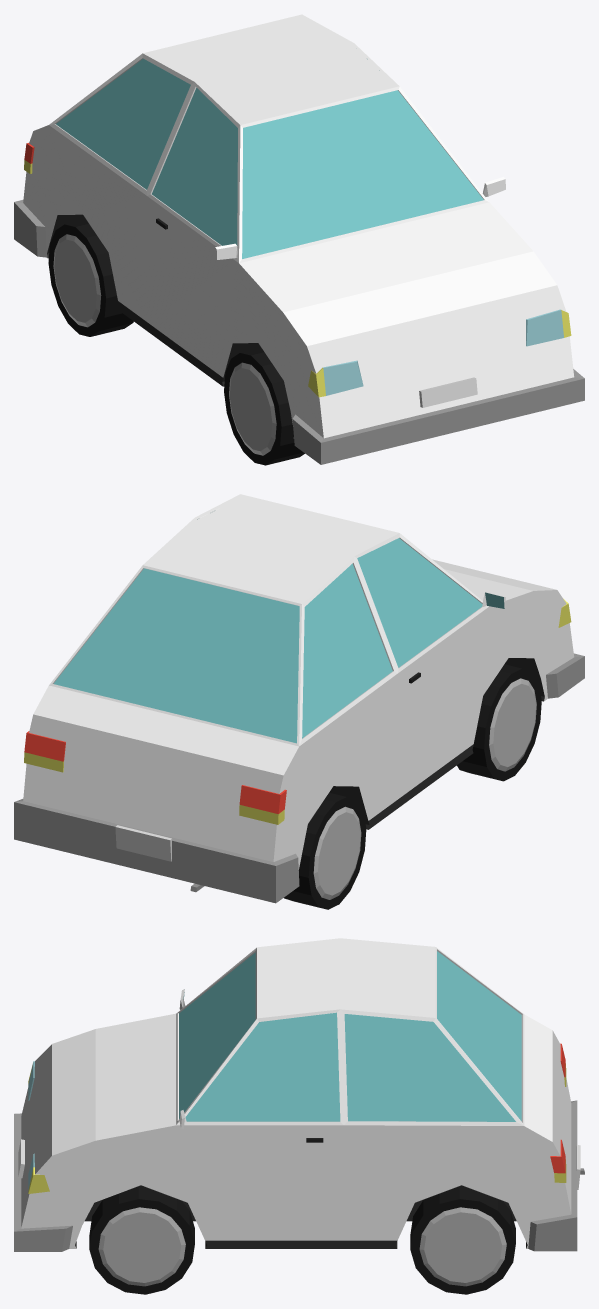
Rendered from lp_car10.fbx.
3 renders of one model, top to bottom at view 1: azimuth 30°, elevation 25°; view 2: azimuth 150°, elevation 25°; view 3: azimuth 270°, elevation 25°, orthographic. The views are drawn at different scales.
Visible parts, largest first — view 1: Car, wheel_BR, wheel_FR; view 2: Car, wheel_FR, wheel_BR; view 3: Car, wheel_BL, wheel_FL.
Part boxes in pixels (<box>): Car: <box>14,14,584,464</box>; wheel_BR: <box>48,219,133,336</box>; wheel_FR: <box>224,347,304,465</box>; Car: <box>14,494,584,903</box>; wheel_FR: <box>457,664,541,781</box>; wheel_BR: <box>284,792,366,909</box>; Car: <box>14,938,584,1251</box>; wheel_BL: <box>410,1185,515,1294</box>; wheel_FL: <box>89,1185,194,1294</box>.
Size of the model in its own units: 231 by 220 by 432.
